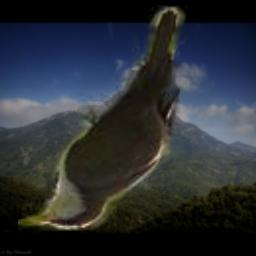Cuckoo: (18, 5, 187, 231)
